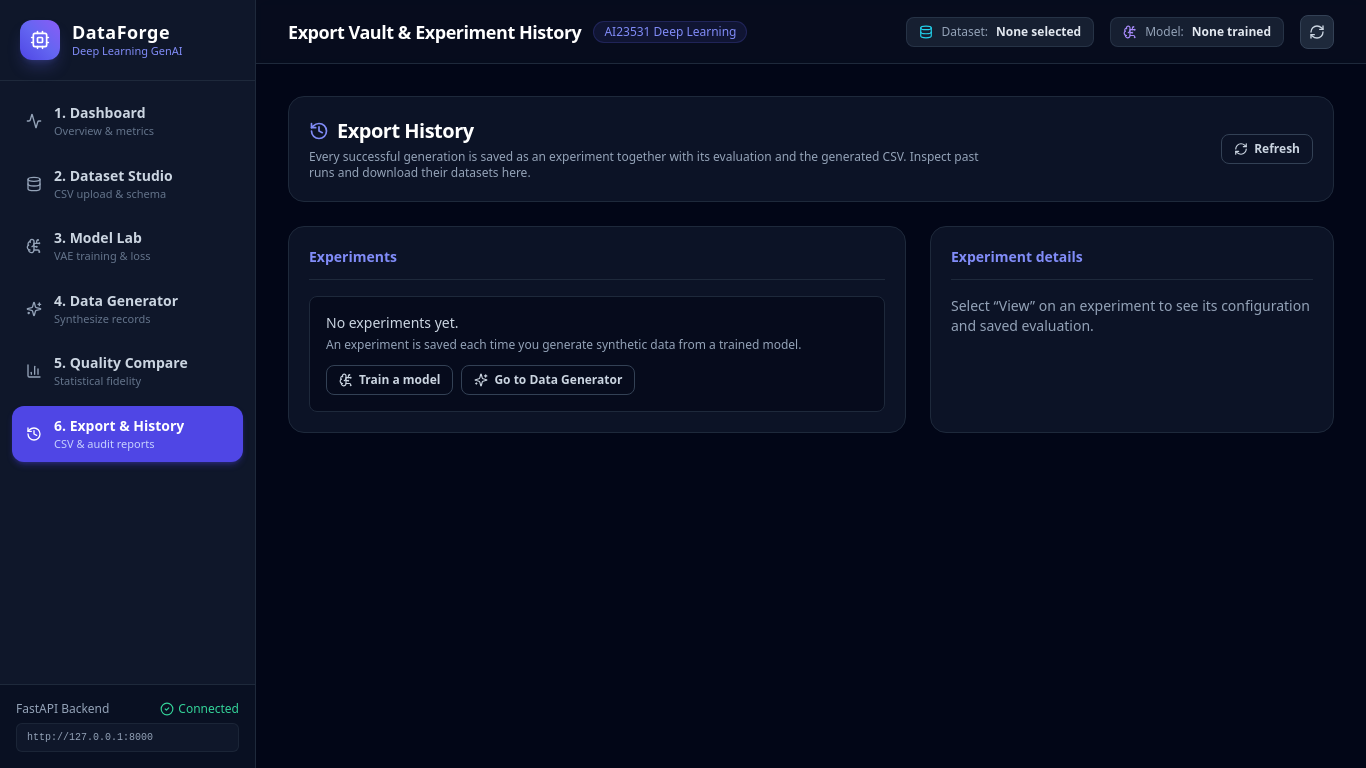
Scenario: workflow error paths › shows empty history and an empty quality page for a fresh server
expect the element with test id "empty-history" is shown: met, box 309,296 -> 885,412
What coordinates should you click on to do the following:
click the button "5. Quality Compare Statistical fidelity"
I would click on:
 (128, 371)
Its box is 12,343 -> 243,400.
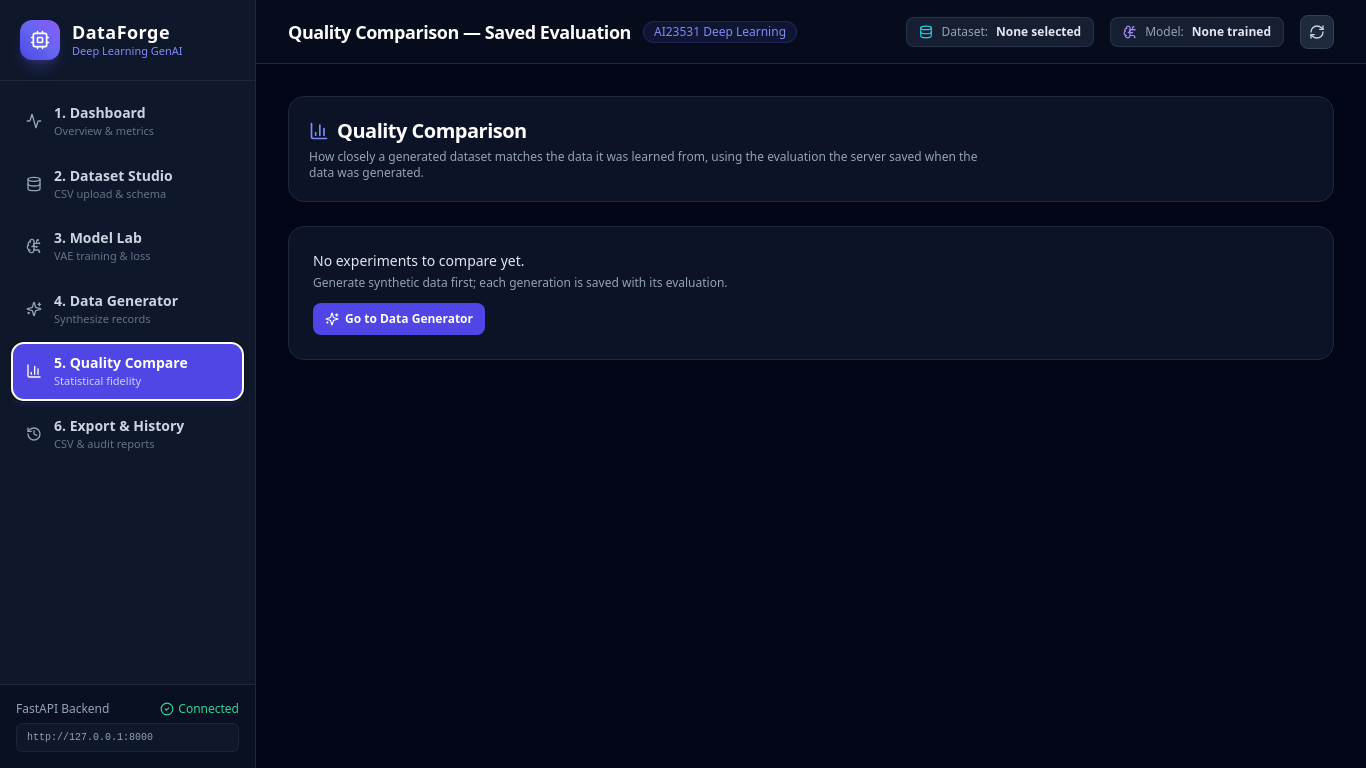
expect the element with test id "no-experiments" is shown: met, box 288,226 -> 1334,360
